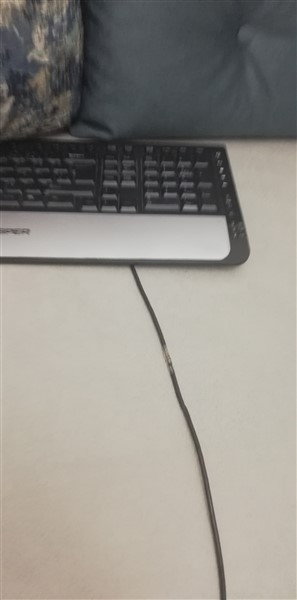klavye: (1, 136, 251, 266)
